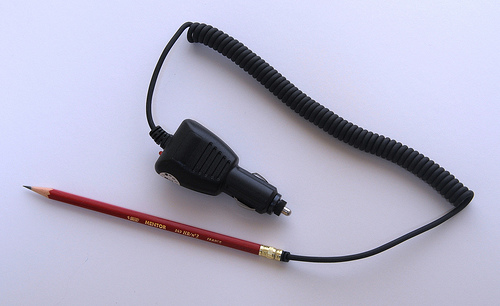pen_tip: (15, 182, 62, 210)
